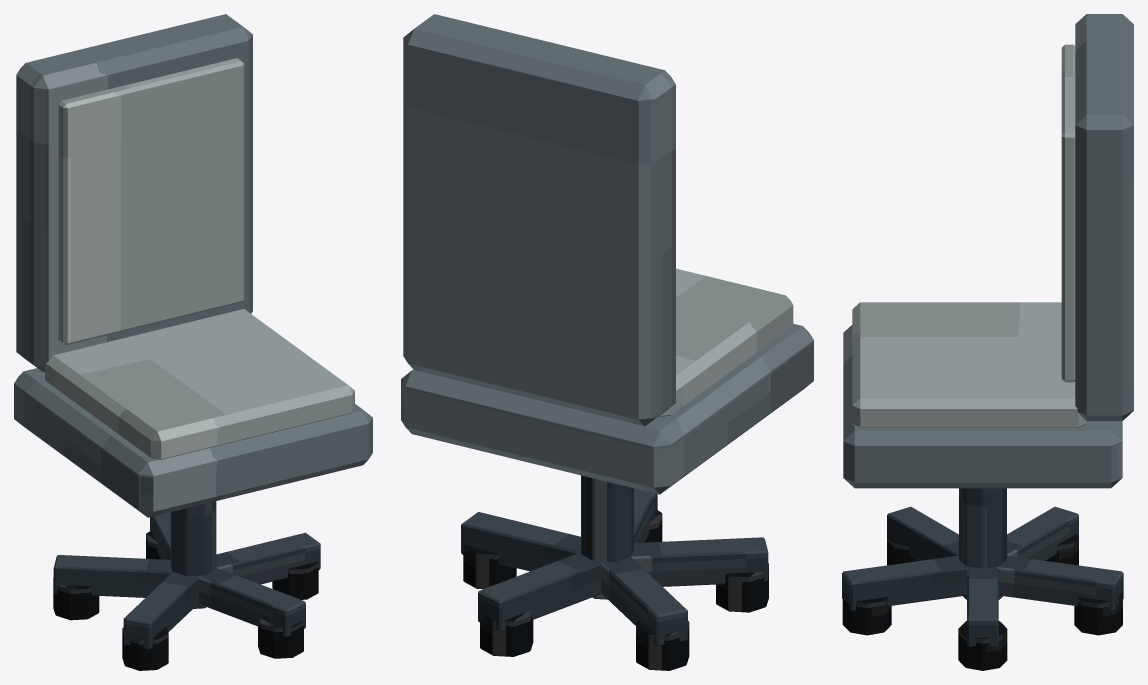
The model's file is office_task_chair_charcoal.glb.
3 views of the same model, side by side, from view 1: azimuth 30°, elevation 25°; view 2: azimuth 150°, elevation 25°; view 3: azimuth 270°, elevation 25° (orthographic). The views are drawn at different scales.
Visible parts, largest first — view 1: BackInset, SeatCushion, Back, Seat, CasterArm_2, CasterArm_4, CasterArm_0, CasterArm_3, Stem, Caster_4, Caster_3, Caster_2 (+2 smaller); view 2: Back, Seat, SeatCushion, CasterArm_1, CasterArm_3, CasterArm_0, CasterArm_2, Stem, Caster_1, Caster_2, Caster_3, Caster_0 (+1 smaller); view 3: SeatCushion, Back, Seat, BackInset, CasterArm_1, CasterArm_4, Stem, CasterArm_2, CasterArm_3, CasterArm_0, Caster_0, Caster_4 (+3 smaller).
Boxes of the visible parts, x1=… form: BackInset: x1=58, y1=58, x2=244, y2=345; SeatCushion: x1=45, y1=309, x2=354, y2=459; Back: x1=16, y1=14, x2=252, y2=372; Seat: x1=14, y1=368, x2=372, y2=517; CasterArm_2: x1=53, y1=555, x2=173, y2=597; CasterArm_4: x1=198, y1=567, x2=305, y2=637; CasterArm_0: x1=216, y1=532, x2=320, y2=584; CasterArm_3: x1=123, y1=572, x2=198, y2=649; Stem: x1=170, y1=501, x2=216, y2=608; Caster_4: x1=258, y1=618, x2=303, y2=658; Caster_3: x1=122, y1=626, x2=168, y2=670; Caster_2: x1=53, y1=577, x2=99, y2=620; Back: x1=403, y1=14, x2=675, y2=426; Seat: x1=401, y1=323, x2=813, y2=494; SeatCushion: x1=659, y1=268, x2=793, y2=416; CasterArm_1: x1=478, y1=552, x2=601, y2=632; CasterArm_3: x1=631, y1=537, x2=768, y2=586; CasterArm_0: x1=461, y1=512, x2=580, y2=571; CasterArm_2: x1=601, y1=556, x2=687, y2=646; Stem: x1=581, y1=475, x2=633, y2=599; Caster_1: x1=480, y1=610, x2=533, y2=656; Caster_2: x1=636, y1=620, x2=689, y2=670; Caster_3: x1=716, y1=563, x2=768, y2=612; Caster_0: x1=463, y1=545, x2=516, y2=589; SeatCushion: x1=852, y1=302, x2=1086, y2=427; Back: x1=1075, y1=14, x2=1133, y2=420; Seat: x1=843, y1=325, x2=1122, y2=488; BackInset: x1=1061, y1=44, x2=1075, y2=382; CasterArm_1: x1=997, y1=555, x2=1123, y2=610; CasterArm_4: x1=842, y1=555, x2=968, y2=610; Stem: x1=959, y1=488, x2=1006, y2=599; CasterArm_2: x1=1007, y1=506, x2=1078, y2=560; CasterArm_3: x1=887, y1=506, x2=958, y2=560; CasterArm_0: x1=967, y1=566, x2=998, y2=646; Caster_0: x1=958, y1=621, x2=1007, y2=670; Caster_4: x1=842, y1=592, x2=891, y2=635.
Size of the model in its own units: 0.6342 by 1.33 by 0.6475.
1 material, 1 textured.
